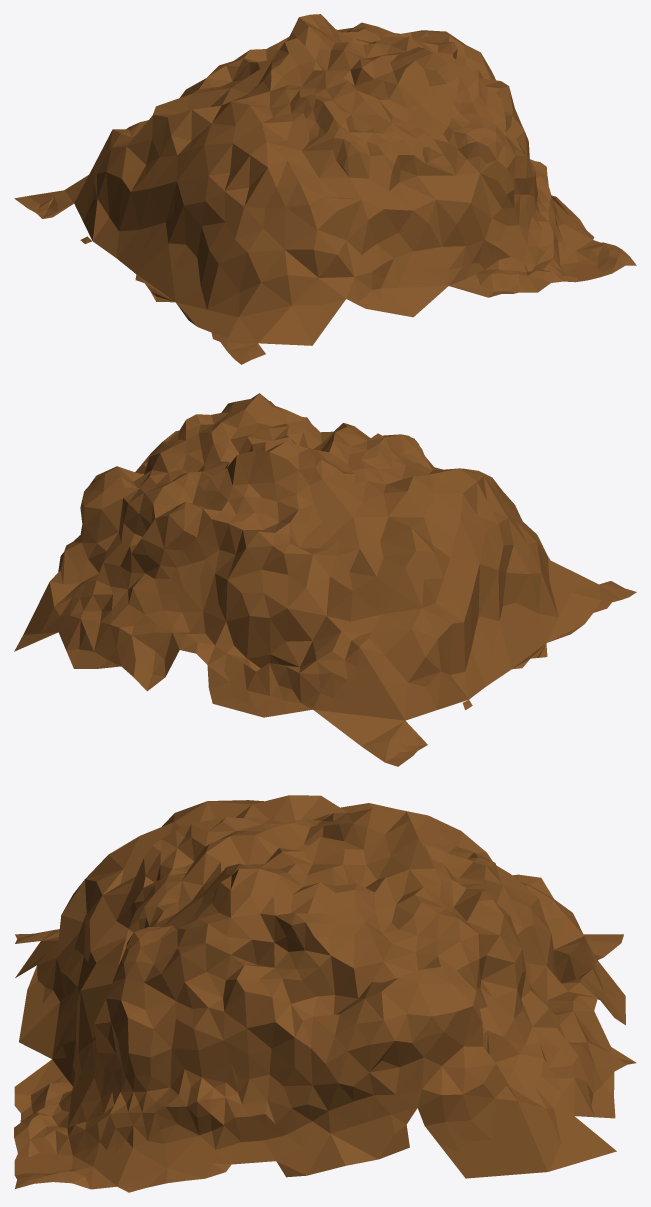
Rendered from CaveMap.fbx.
The picture shows the model from 3 angles, top to bottom: view 1: azimuth 30°, elevation 25°; view 2: azimuth 150°, elevation 25°; view 3: azimuth 270°, elevation 25°; orthographic projection. The views are drawn at different scales.
Visible parts, largest first — view 1: Plane; view 2: Plane; view 3: Plane.
Part boxes in pixels (x1=…): Plane: x1=14, y1=14, x2=636, y2=364; Plane: x1=14, y1=393, x2=636, y2=766; Plane: x1=14, y1=795, x2=636, y2=1192.
Bounding box in the file's own units: 28709 × 14046 × 28880.
